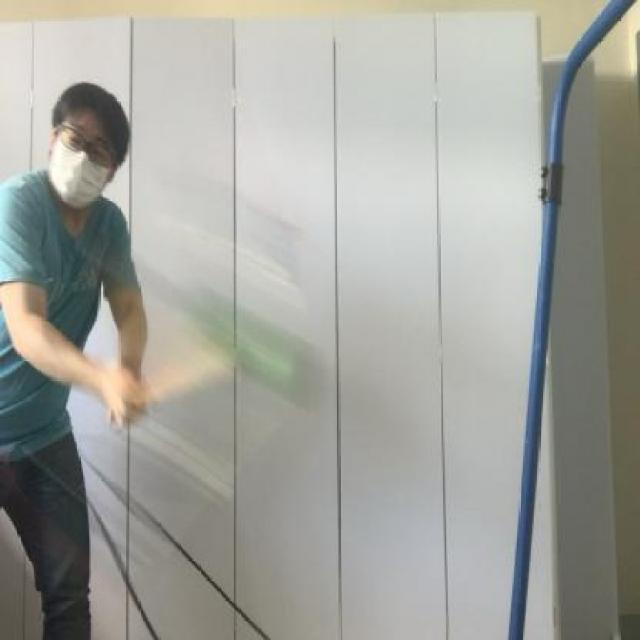baseball: (185, 278, 328, 419)
